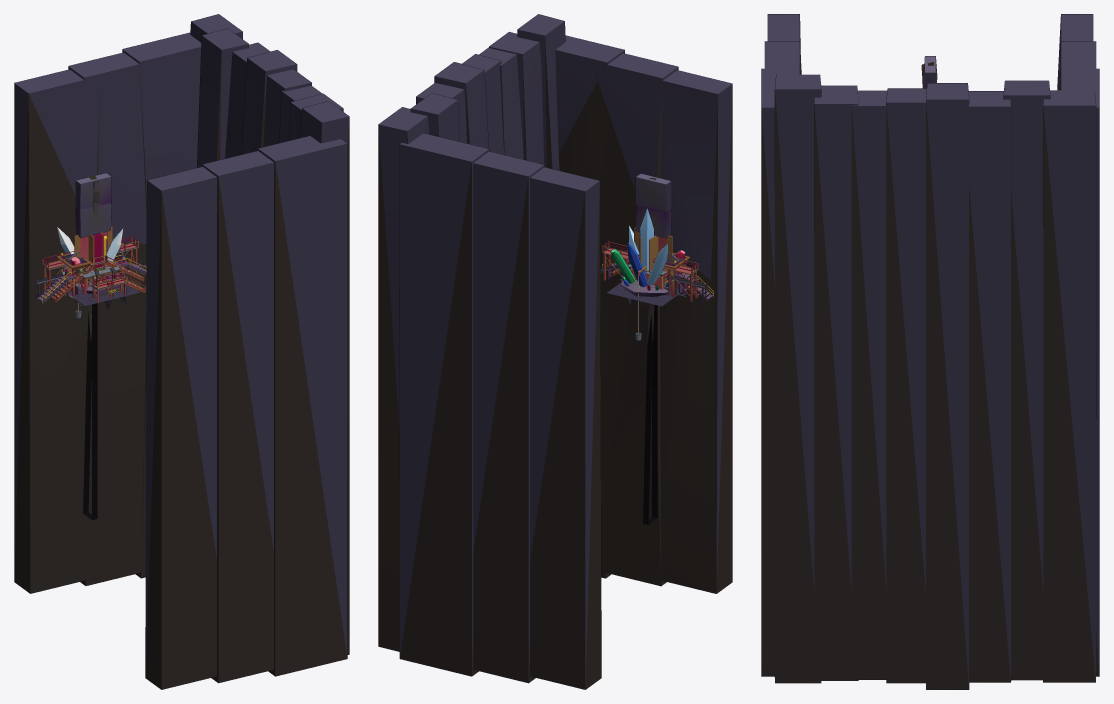
File: fps-kit-gemmine.glb
3 renders of one model, left to right at view 1: azimuth 30°, elevation 25°; view 2: azimuth 150°, elevation 25°; view 3: azimuth 270°, elevation 25°, orthographic. The views are drawn at different scales.
Visible parts, largest first — view 1: KIT_GEMMINE_Backdrop_Chasm, KIT_GEMMINE_GateFrame, KIT_GEMMINE_Landmark_Gallery, KIT_GEMMINE_Chasm, KIT_GEMMINE_Landmark_BeltBridge, KIT_GEMMINE_Landmark_GemHeart, KIT_GEMMINE_Chasm_B, KIT_GEMMINE_Chasm_Lamp, KIT_GEMMINE_Chasm_Sign, KIT_GEMMINE_Landmark_GemHeart_Glow, KIT_GEMMINE_Landmark_Chute; view 2: KIT_GEMMINE_Backdrop_Chasm, KIT_GEMMINE_GateFrame, KIT_GEMMINE_Landmark_GemHeart_Glow, KIT_GEMMINE_Chasm_Sign, KIT_GEMMINE_Landmark_Gallery, KIT_GEMMINE_Chasm, KIT_GEMMINE_Landmark_BeltBridge, KIT_GEMMINE_Chasm_B, KIT_GEMMINE_Landmark_GemHeart, KIT_GEMMINE_CaveRoof_A; view 3: KIT_GEMMINE_Backdrop_Chasm.
Part boxes in pixels (x1,y1,x2,y2): KIT_GEMMINE_Backdrop_Chasm: [14, 14, 349, 689]; KIT_GEMMINE_GateFrame: [75, 173, 111, 267]; KIT_GEMMINE_Landmark_Gallery: [42, 236, 144, 302]; KIT_GEMMINE_Chasm: [83, 303, 97, 519]; KIT_GEMMINE_Landmark_BeltBridge: [34, 249, 146, 304]; KIT_GEMMINE_Landmark_GemHeart: [57, 227, 145, 303]; KIT_GEMMINE_Chasm_B: [83, 305, 97, 520]; KIT_GEMMINE_Chasm_Lamp: [83, 304, 97, 519]; KIT_GEMMINE_Chasm_Sign: [83, 303, 97, 519]; KIT_GEMMINE_Landmark_GemHeart_Glow: [57, 227, 123, 289]; KIT_GEMMINE_Landmark_Chute: [56, 254, 120, 298]; KIT_GEMMINE_Backdrop_Chasm: [378, 14, 732, 689]; KIT_GEMMINE_GateFrame: [635, 173, 671, 251]; KIT_GEMMINE_Landmark_GemHeart_Glow: [611, 208, 685, 290]; KIT_GEMMINE_Chasm_Sign: [643, 305, 657, 524]; KIT_GEMMINE_Landmark_Gallery: [602, 241, 704, 301]; KIT_GEMMINE_Chasm: [648, 303, 657, 518]; KIT_GEMMINE_Landmark_BeltBridge: [600, 250, 713, 302]; KIT_GEMMINE_Chasm_B: [646, 304, 657, 524]; KIT_GEMMINE_Landmark_GemHeart: [610, 208, 687, 296]; KIT_GEMMINE_CaveRoof_A: [607, 277, 698, 306]; KIT_GEMMINE_Backdrop_Chasm: [761, 14, 1099, 689].
Size of the model in its own units: 46.5 by 92.75 by 47.84.
1 material, 1 textured.
